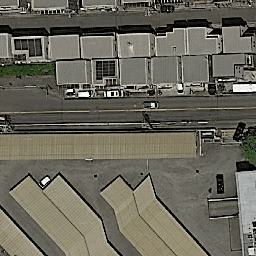car: (37, 175, 52, 188), (103, 89, 124, 98), (142, 100, 160, 110), (77, 89, 93, 99), (206, 83, 217, 96), (176, 82, 185, 96)
